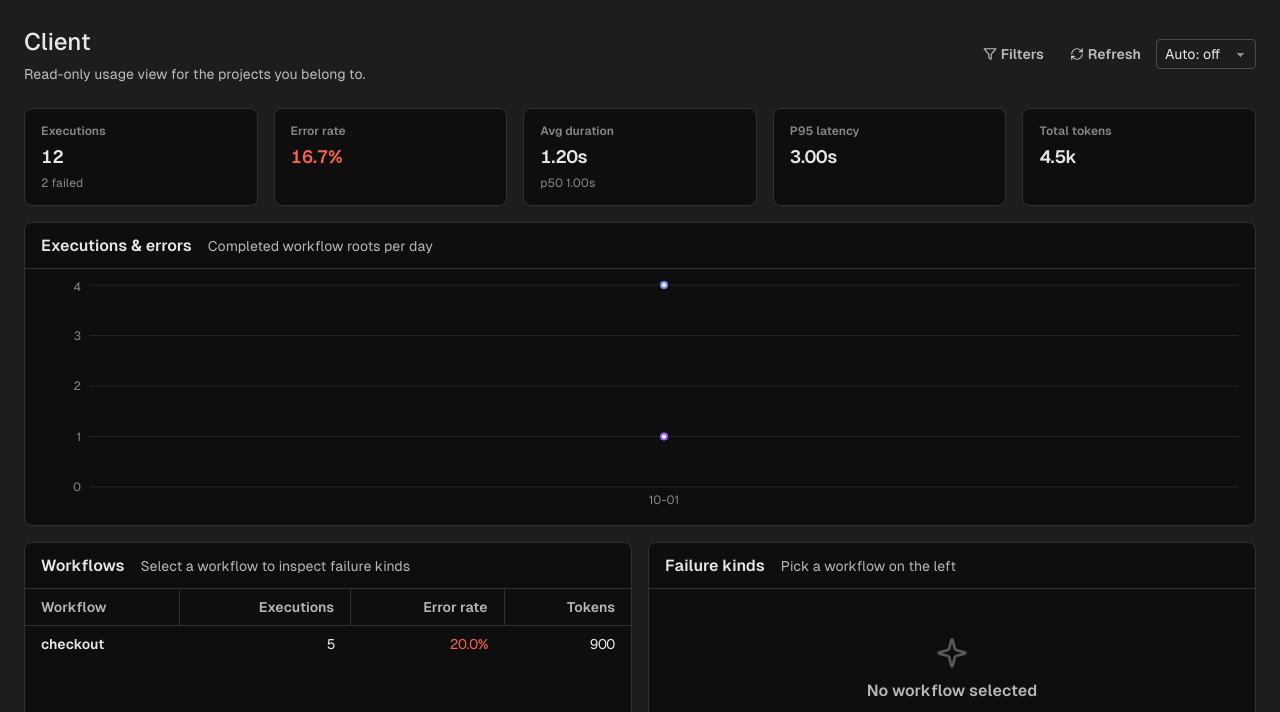
Test: Client drill-down › filters errors by workflow and clears the drill-down
This screenshot has width=1280, height=712.
Click the text "checkout": (103, 644) left=25, top=626, right=180, bottom=662
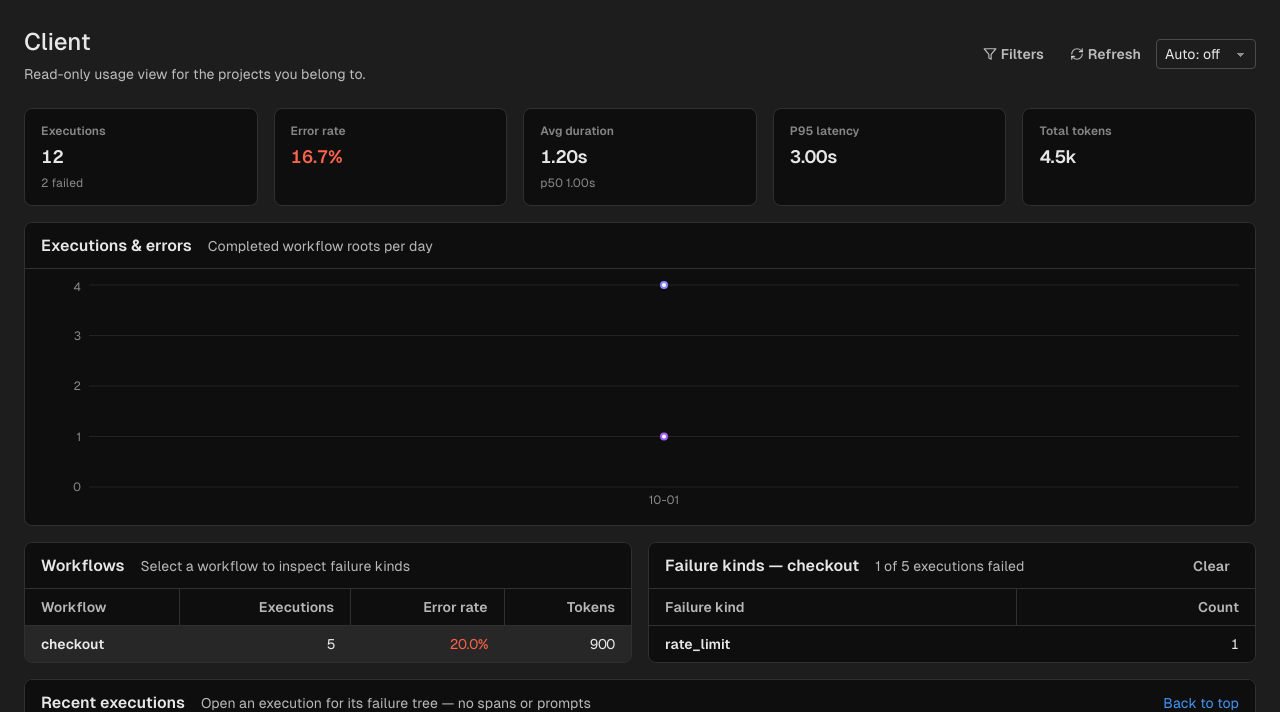
Result: the text "rate_limit" is shown at left=649, top=626, right=1016, bottom=662
Click the button "Clear": (1212, 566) left=1184, top=550, right=1239, bottom=580
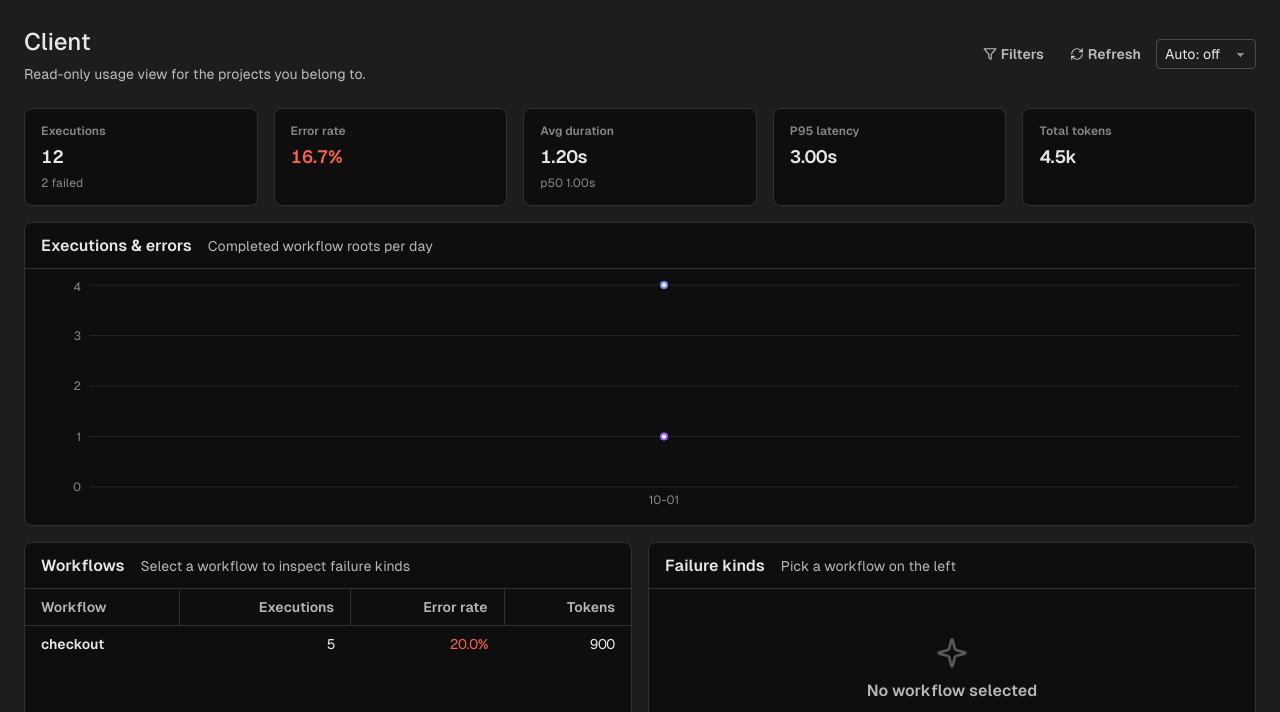
Result: the text "No workflow selected" is shown at left=867, top=681, right=1037, bottom=701
